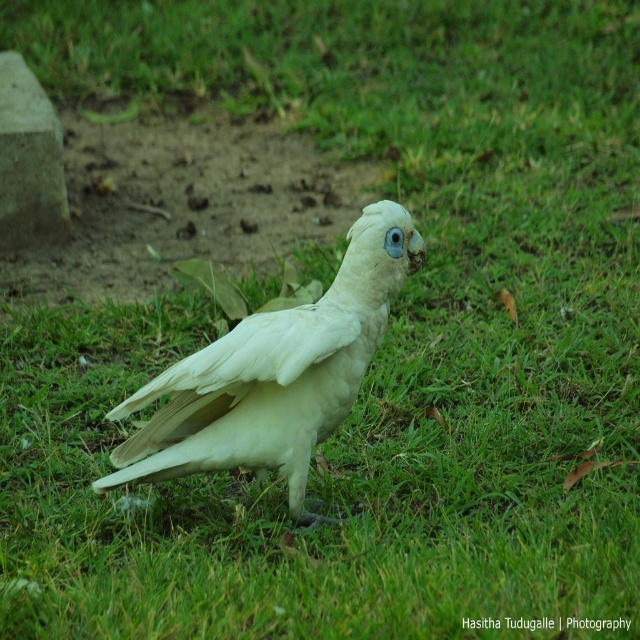Parrot: (90, 199, 428, 528)
